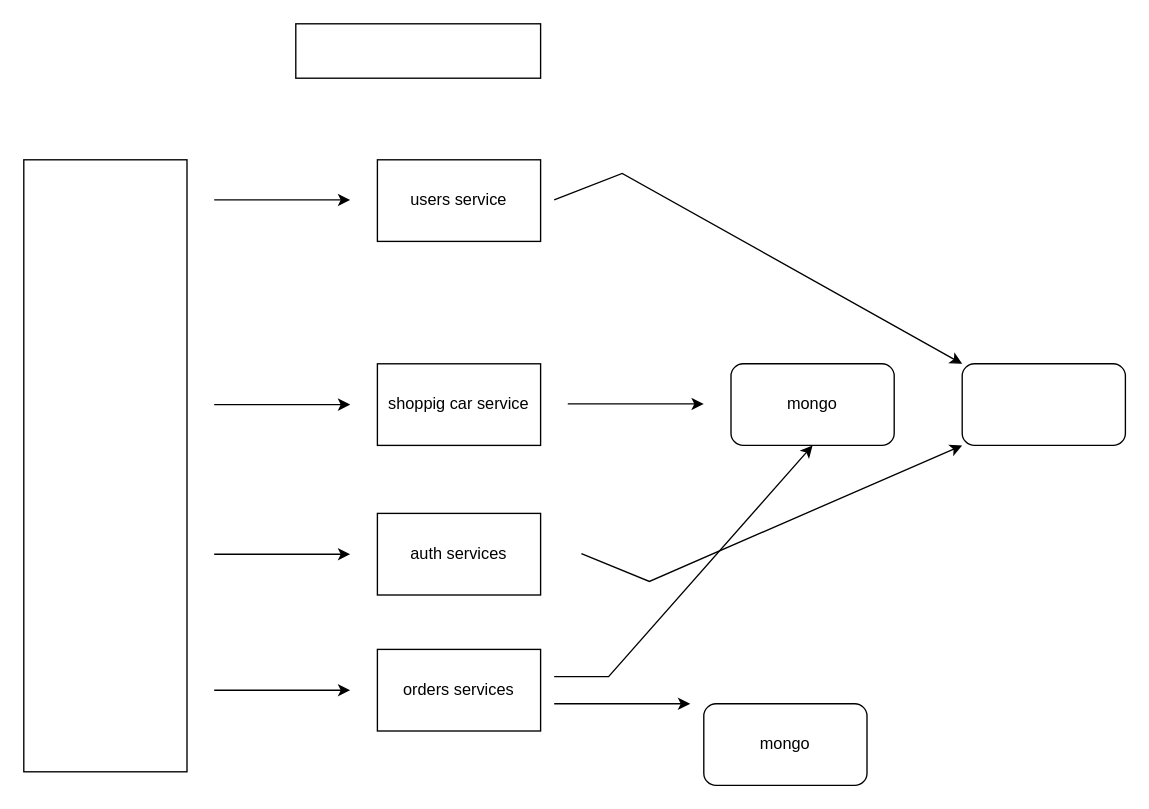
This 1149x809 diagram has some shape labels left out. Each missing label, with the centre of its shape:
"BACK-END" goes at [417,50].
"client" goes at [104,465].
"postgres" goes at [1043,403].
